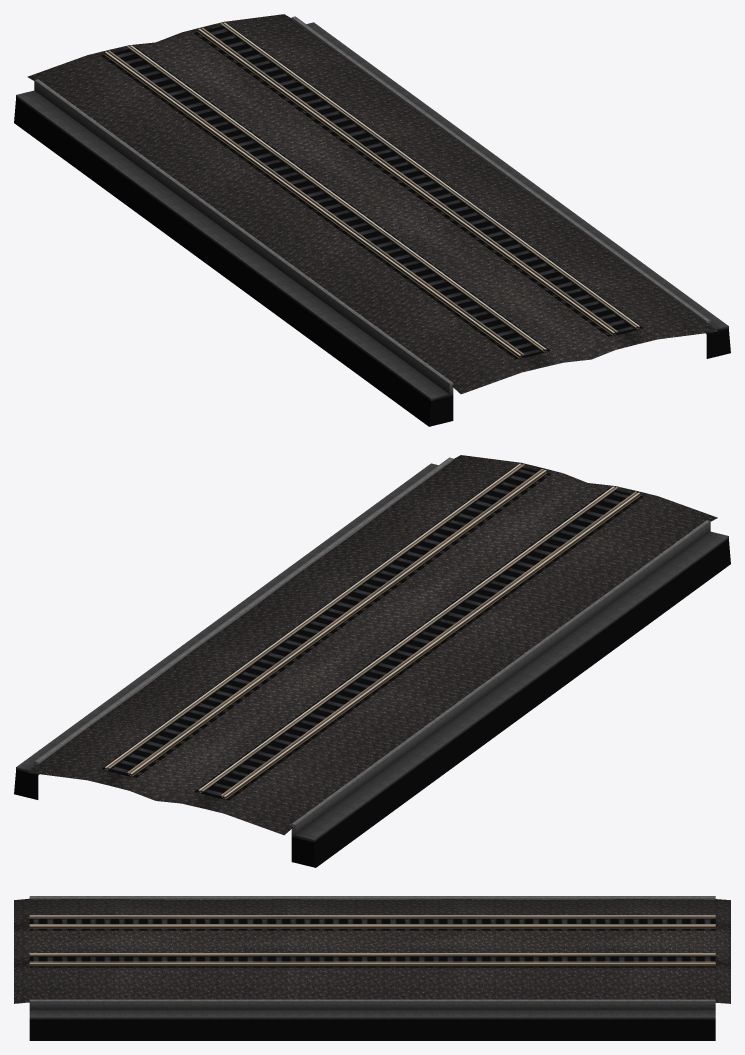
The model's file is MEI_2RAIL_100.glb.
The picture shows the model from 3 angles, top to bottom: view 1: azimuth 30°, elevation 25°; view 2: azimuth 150°, elevation 25°; view 3: azimuth 270°, elevation 25°; orthographic projection. The views are drawn at different scales.
Visible parts, largest first — view 1: LeftWall, R000_RG_R, R000_RG_L; view 2: LeftWall, R000_RG_R, R000_RG_L; view 3: LeftWall, R000_RG_L, R000_RG_R.
Part boxes in pixels (x1,y1,x2,y2): LeftWall: (14, 14, 730, 426); R000_RG_R: (108, 27, 617, 356); R000_RG_L: (127, 23, 636, 350); LeftWall: (14, 455, 730, 867); R000_RG_R: (127, 469, 636, 797); R000_RG_L: (108, 464, 617, 792); LeftWall: (14, 896, 730, 1040); R000_RG_L: (29, 924, 715, 963); R000_RG_R: (29, 916, 715, 955).
Bounding box in the file's own units: 42 × 6.55 × 105.
Materials: 7 (6 with a texture image).
